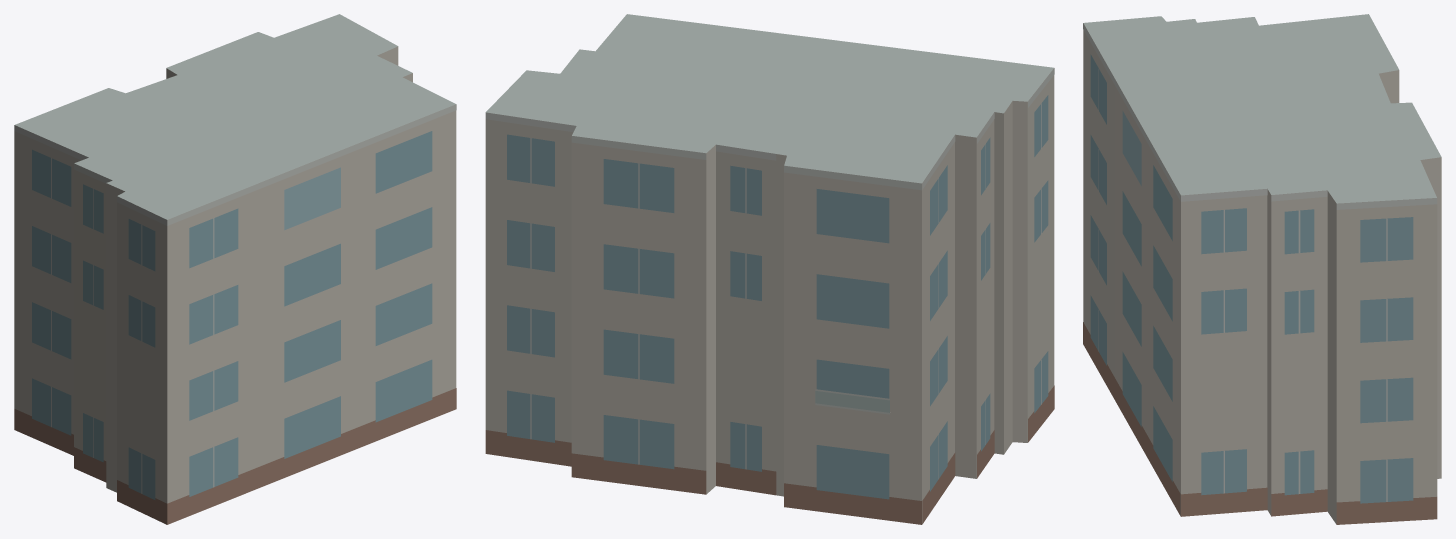
Rendered from survey-upis-32704961.glb.
The picture shows the model from 3 angles, left to right: view 1: azimuth 30°, elevation 25°; view 2: azimuth 150°, elevation 25°; view 3: azimuth 270°, elevation 25°; orthographic projection. The views are drawn at different scales.
Parts seen in each view (by area): view 1: survey-upis-32704961.tmp; view 2: survey-upis-32704961.tmp; view 3: survey-upis-32704961.tmp.
Boxes of the visible parts, x1,y1,x2,y2 form: survey-upis-32704961.tmp: (14, 14, 456, 524); survey-upis-32704961.tmp: (485, 14, 1054, 524); survey-upis-32704961.tmp: (1083, 14, 1441, 524).
Size of the model in its own units: 15.44 by 12.2 by 12.34.
